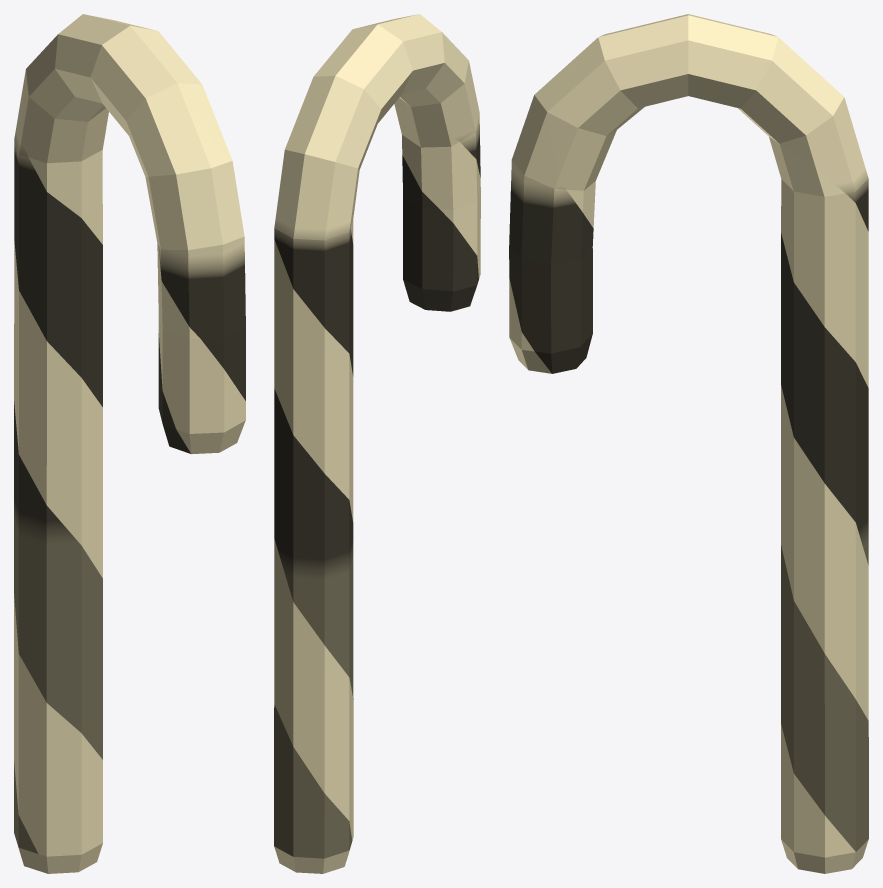
The model's file is SM_Prop_Candy_Cane_01.fbx.
3 views of the same model, side by side, from view 1: azimuth 30°, elevation 25°; view 2: azimuth 150°, elevation 25°; view 3: azimuth 270°, elevation 25° (orthographic). The views are drawn at different scales.
Visible parts, largest first — view 1: SM_Prop_Candy_Cane_01; view 2: SM_Prop_Candy_Cane_01; view 3: SM_Prop_Candy_Cane_01.
Part boxes in pixels (x1,y1,x2,y2): SM_Prop_Candy_Cane_01: (14,14,245,873); SM_Prop_Candy_Cane_01: (274,14,480,873); SM_Prop_Candy_Cane_01: (509,14,868,873).
Size of the model in its own units: 14.23 by 150 by 58.22.
